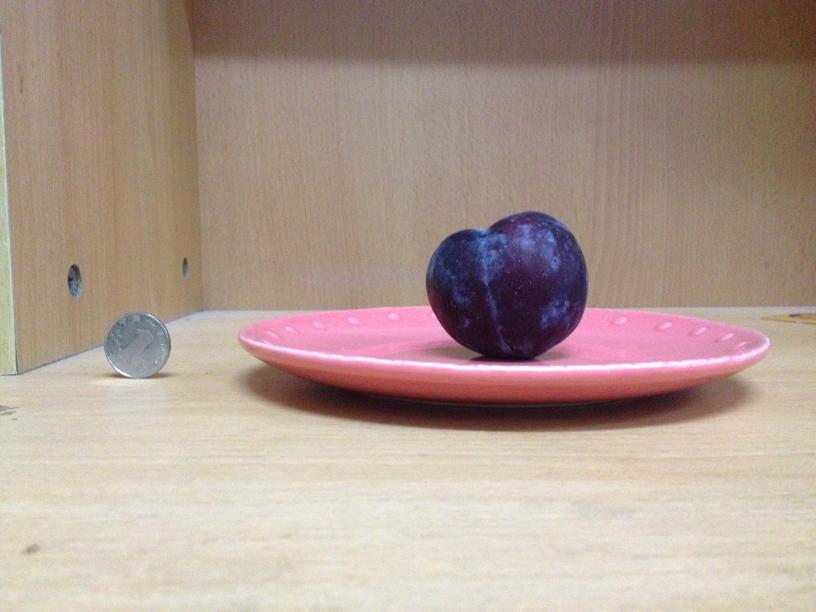coin: (100, 312, 172, 379)
plum: (422, 211, 588, 358)
